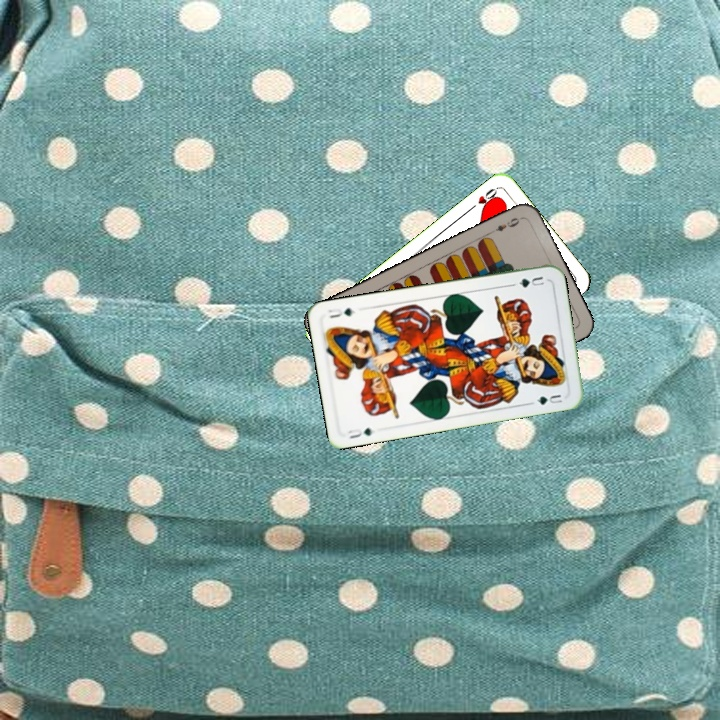E9: (486, 213, 524, 236)
GU: (515, 272, 547, 290), (343, 424, 375, 441)
HO: (465, 184, 501, 213)
